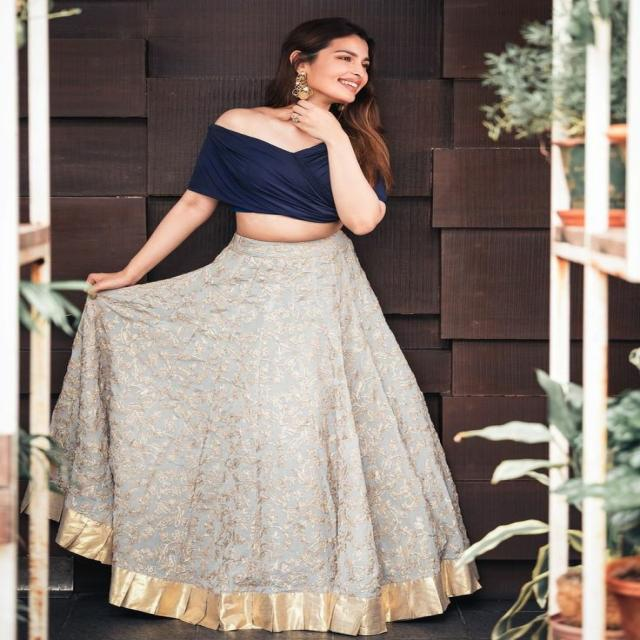female-dress: (68, 112, 490, 624), (57, 239, 476, 632), (193, 113, 388, 227)
